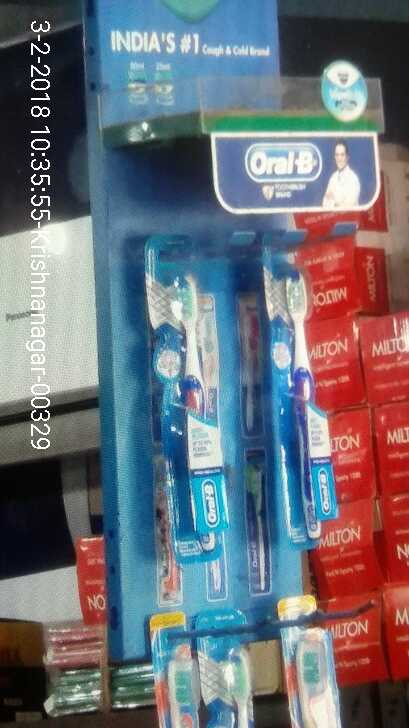oralb: (166, 272, 248, 549), (269, 265, 349, 545)
